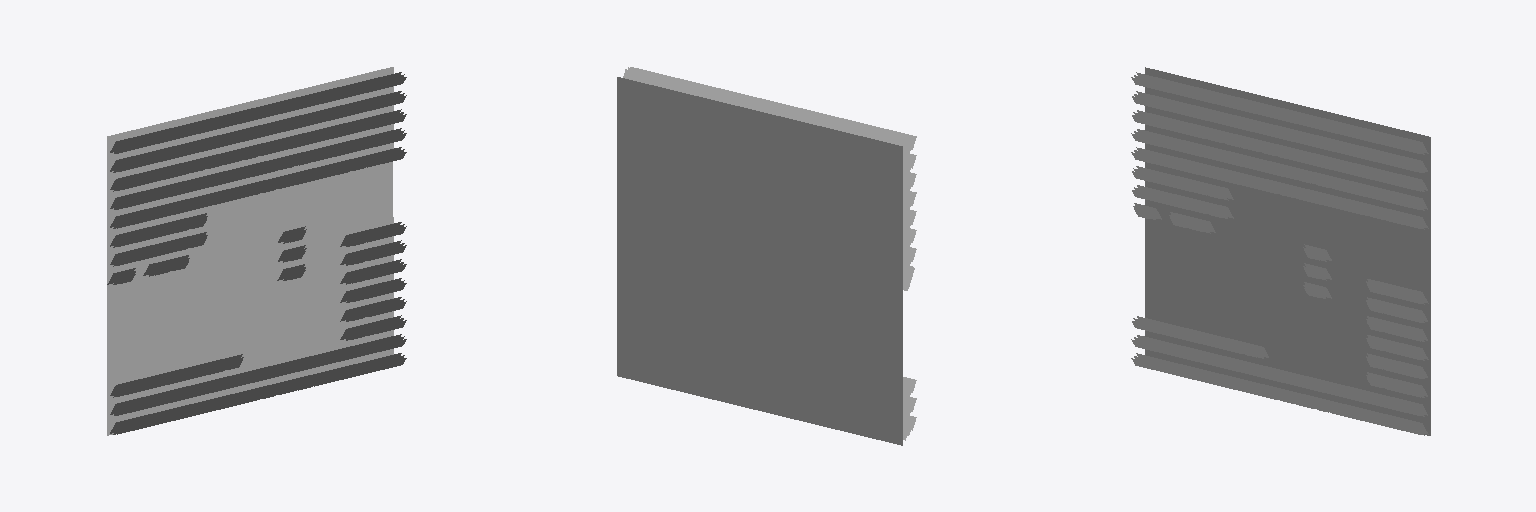
File: Plat_full_03_20.obj
3 renders of one model, left to right at view 1: azimuth 30°, elevation 25°; view 2: azimuth 150°, elevation 25°; view 3: azimuth 330°, elevation 25°, orthographic.
Parts seen in each view (by area): view 1: map; view 2: map; view 3: map.
Boxes of the visible parts, x1=… form: map: x1=107, y1=67, x2=406, y2=435; map: x1=617, y1=67, x2=916, y2=445; map: x1=1131, y1=67, x2=1430, y2=435.
Size of the model in its own units: 32.25 by 32.12 by 2.64.